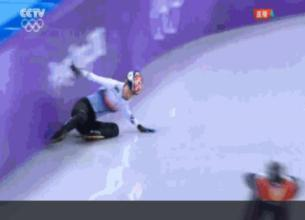Fall-Detected: (44, 54, 156, 142)
